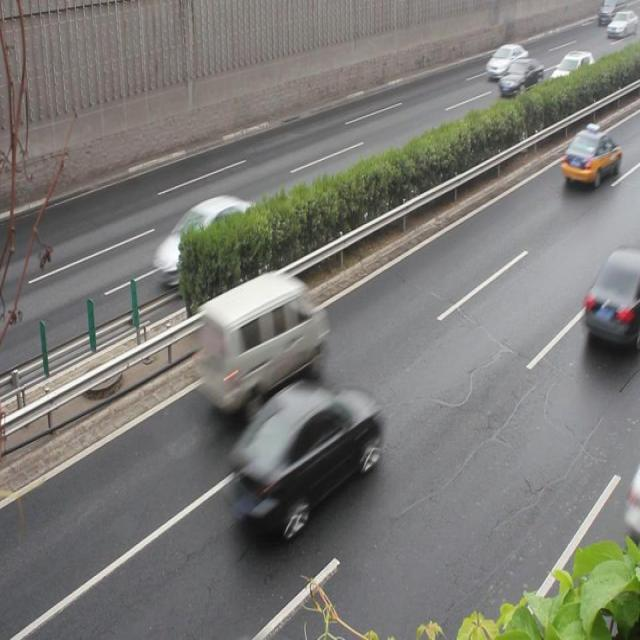car: (232, 377, 380, 532), (152, 193, 272, 285), (585, 245, 640, 348), (560, 124, 622, 187), (498, 59, 541, 97), (484, 42, 527, 80)
truck: (196, 270, 327, 410)
